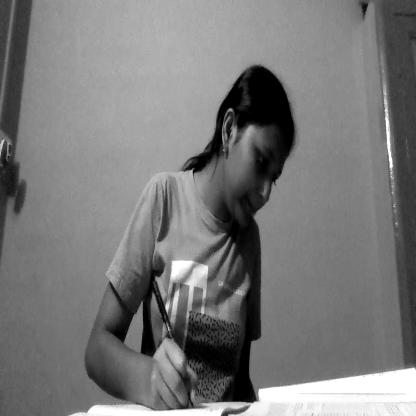Distracted: (221, 94, 297, 229)
